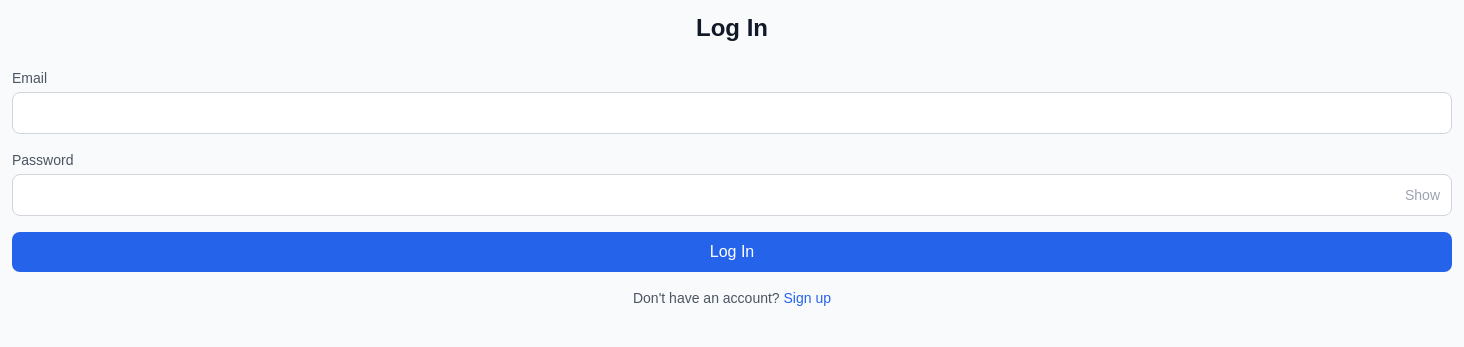
Test: Login page › explains the problem and sends nothing for an email that is not an email
Type "not-an-email" into the field labelled "Email".
click(732, 113); type("not-an-email")  # box [12,92,1452,134]
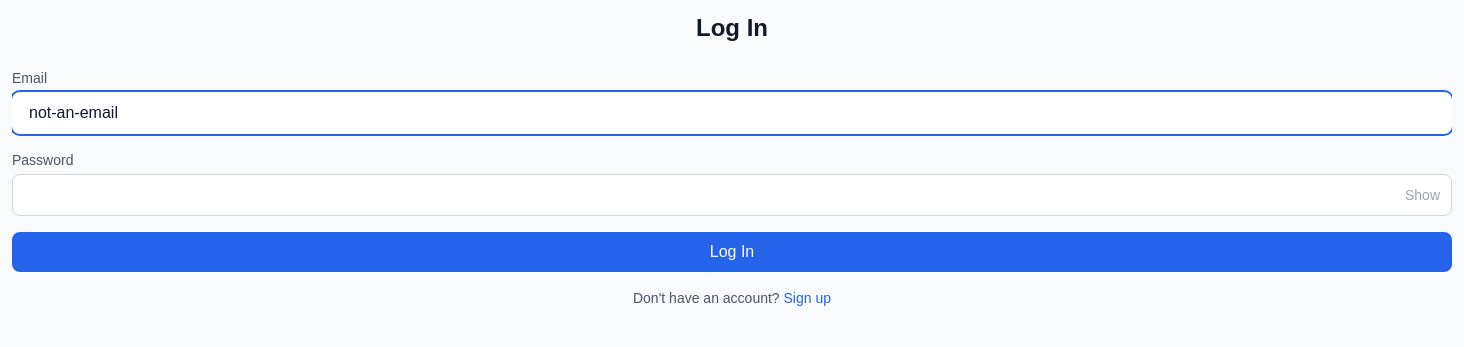
Type "Claimant123!" into the password field labelled "Password".
click(732, 195); type("Claimant123!")  # box [12,174,1452,216]
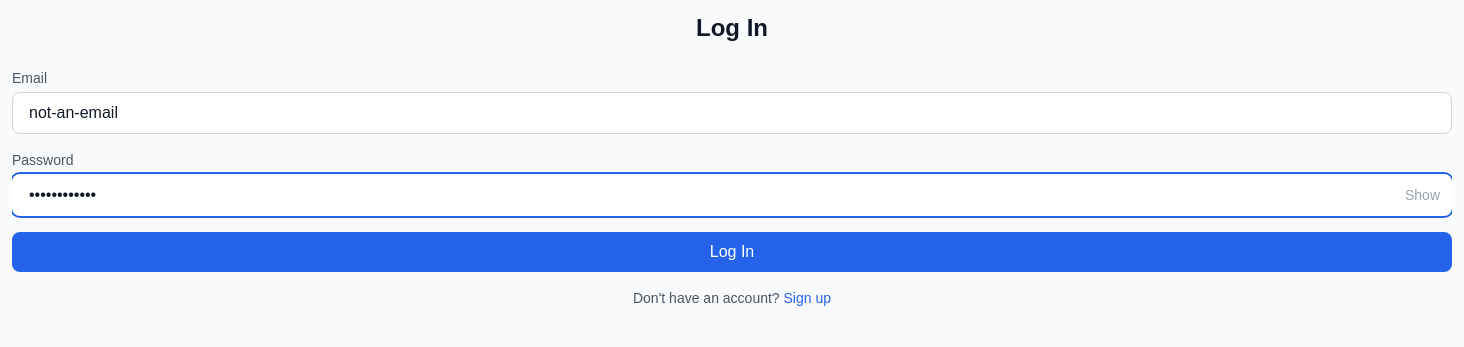
Click the button "Log In".
click(732, 252)  # box [12,232,1452,272]
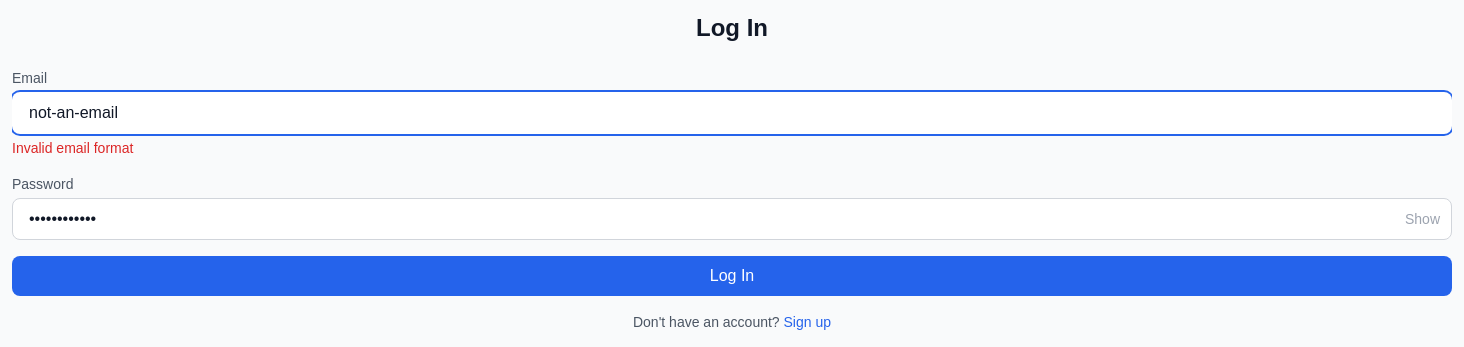
Expected: the message reads "Invalid email format", [12,140,133,156]
